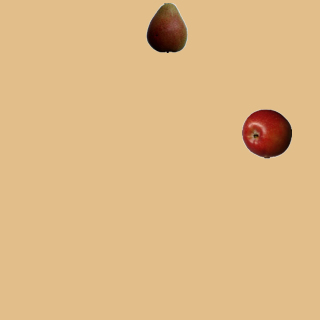Apple Braeburn: (241, 108, 291, 158)
Pear Forelle: (141, 2, 191, 52)
